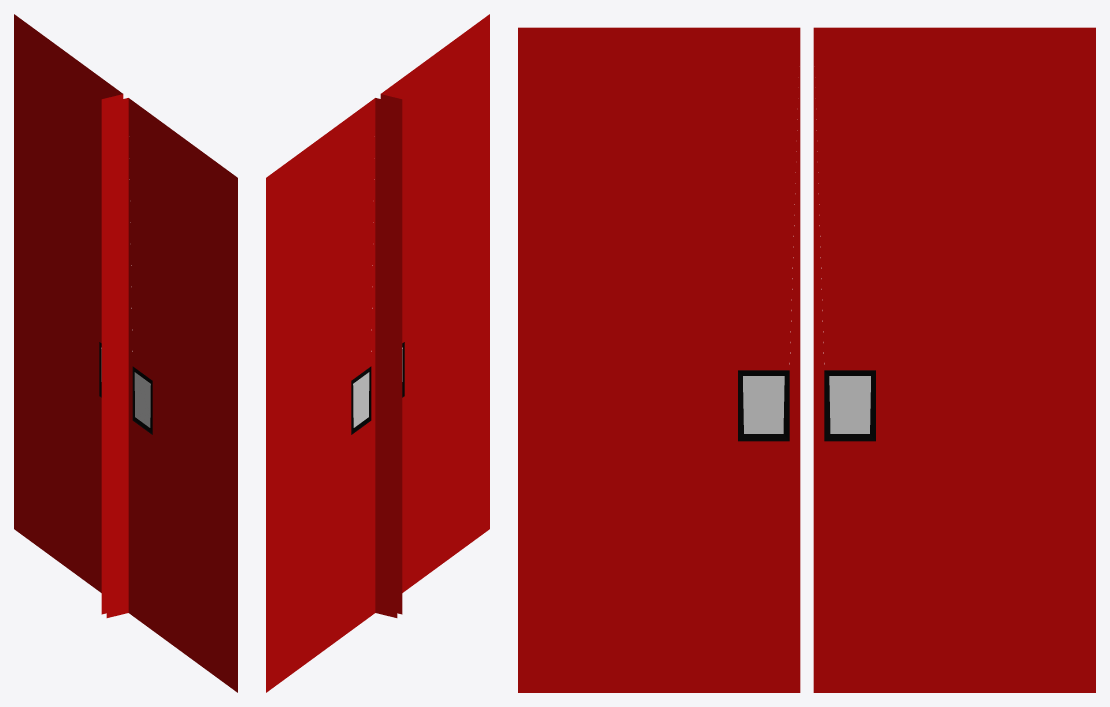
File: door.fbx
3 views of the same model, side by side, from view 1: azimuth 30°, elevation 25°; view 2: azimuth 150°, elevation 25°; view 3: azimuth 270°, elevation 25° (orthographic). The views are drawn at different scales.
Parts seen in each view (by area): view 1: Doors; view 2: Doors; view 3: Doors.
Boxes of the visible parts, x1,y1,x2,y2 form: Doors: (14, 14, 237, 692); Doors: (266, 14, 489, 692); Doors: (518, 27, 1095, 692).
Size of the model in its own units: 26.41 by 568 by 447.
